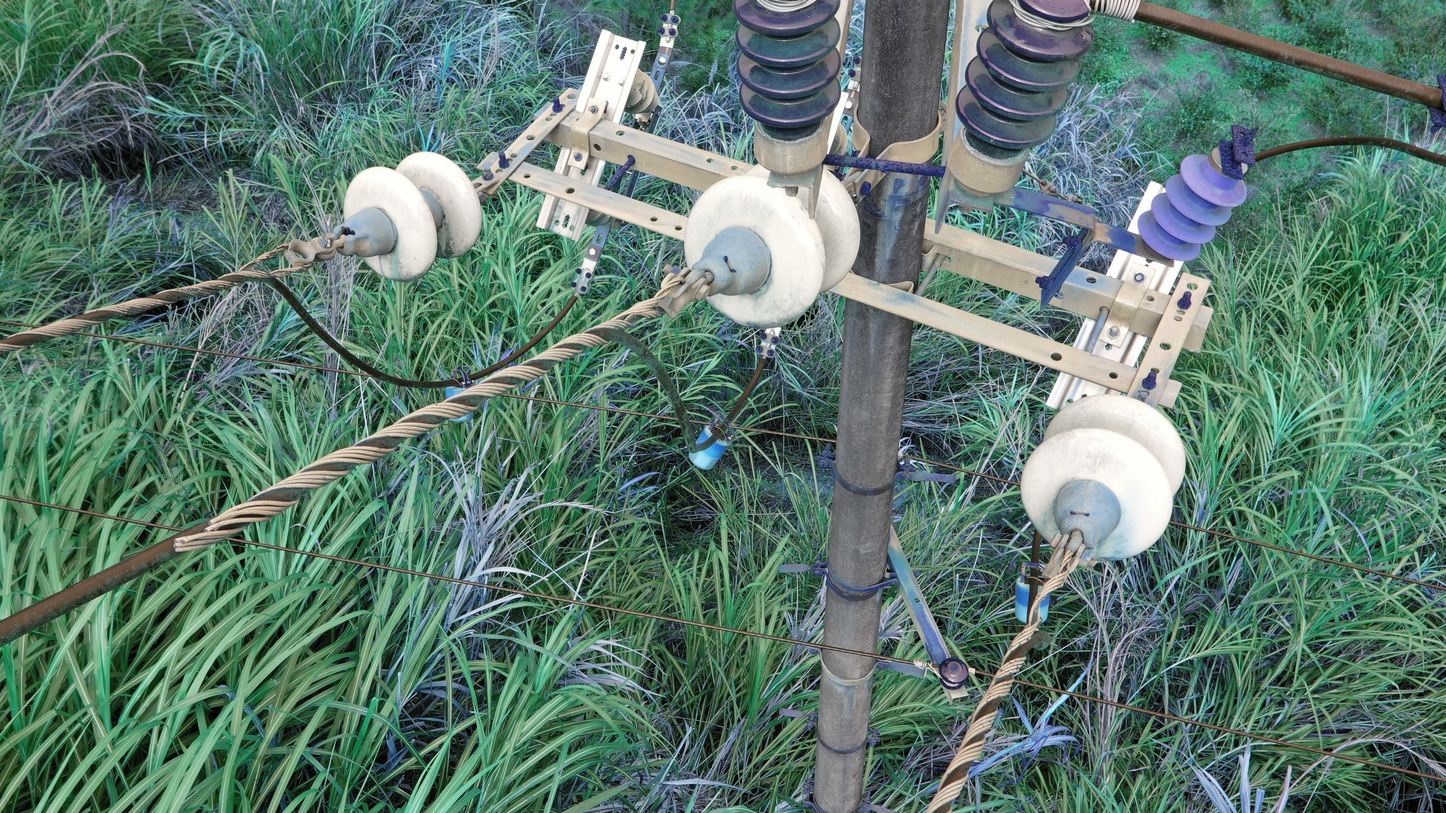severe_soiling_no_discharge_whole: (943, 2, 1106, 203), (680, 164, 864, 334), (1015, 385, 1188, 564), (731, 3, 845, 175), (342, 151, 489, 284)
